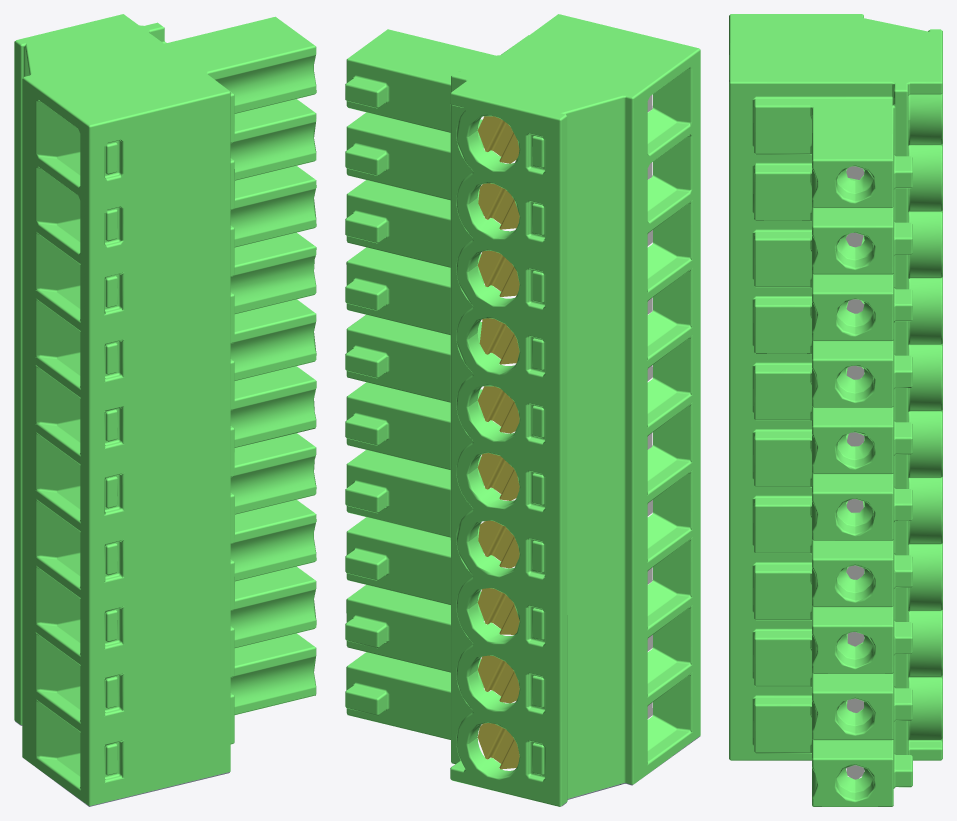
The model's file is sfe-plug_screw_cage_3.5mm-10.glb.
The picture shows the model from 3 angles, left to right: view 1: azimuth 30°, elevation 25°; view 2: azimuth 150°, elevation 25°; view 3: azimuth 270°, elevation 25°; orthographic projection.
Parts seen in each view (by area): view 1: 0.25_1_0.25_0; view 2: 0.25_1_0.25_0, 1_1_0.16666666666666666_0, 0.5833333333333334_0.5833333333333334_0.5833333333333334_0.8; view 3: 0.25_1_0.25_0, 0.5833333333333334_0.5833333333333334_0.5833333333333334_0.8.
Boxes of the visible parts, x1=… form: 0.25_1_0.25_0: x1=14, y1=14, x2=316, y2=805; 0.25_1_0.25_0: x1=345, y1=14, x2=700, y2=806; 1_1_0.16666666666666666_0: x1=477, y1=116, x2=519, y2=769; 0.5833333333333334_0.5833333333333334_0.5833333333333334_0.8: x1=647, y1=95, x2=652, y2=718; 0.25_1_0.25_0: x1=729, y1=14, x2=942, y2=806; 0.5833333333333334_0.5833333333333334_0.5833333333333334_0.8: x1=845, y1=166, x2=864, y2=779.
Size of the model in its own units: 1.61 by 3.89 by 1.11.
